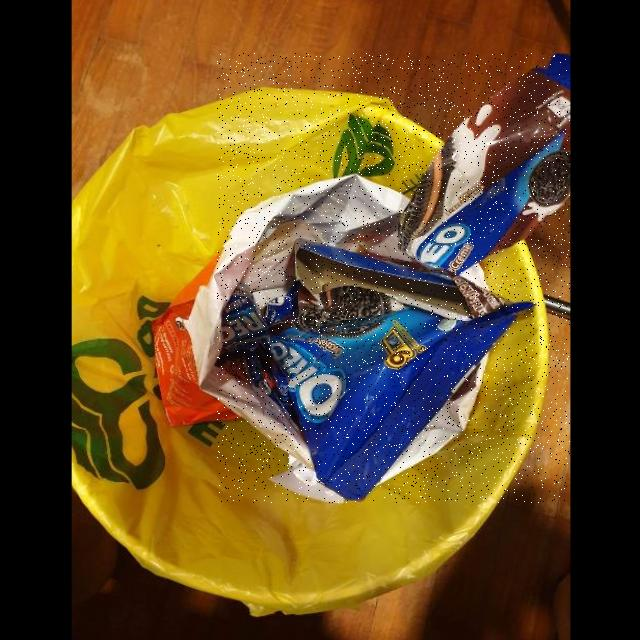paper: (294, 243, 475, 322)
wrapper: (218, 53, 570, 503), (220, 281, 300, 356)
